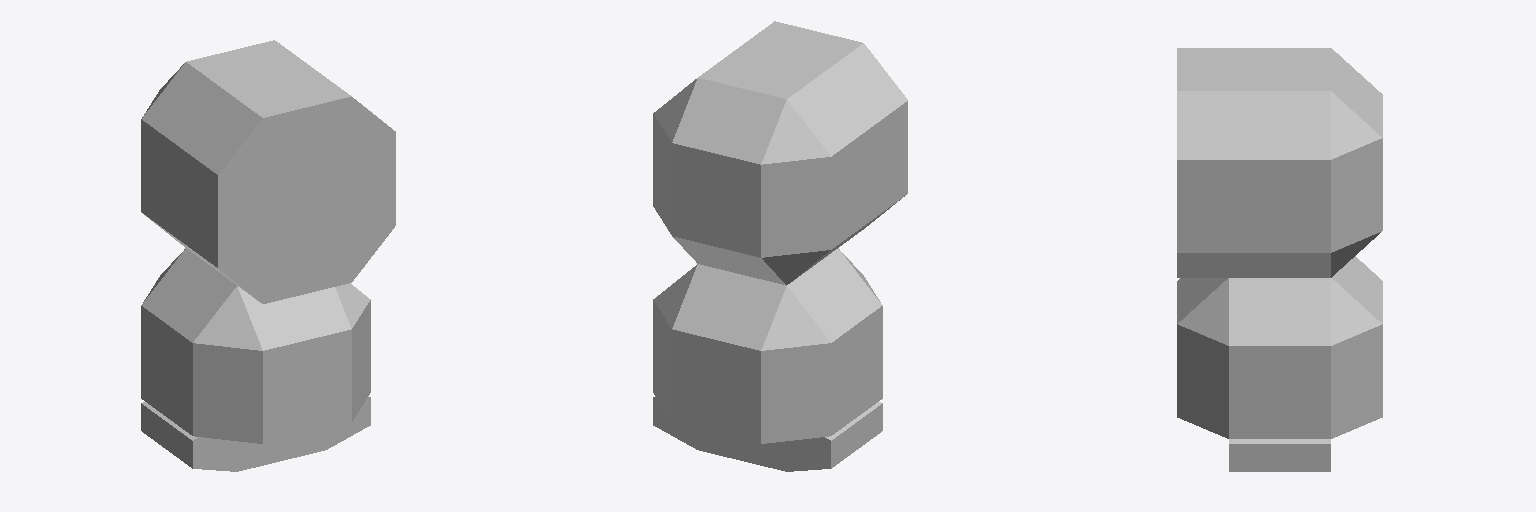
Rendered from Crazer_Unown.obj.
3 renders of one model, left to right at view 1: azimuth 30°, elevation 25°; view 2: azimuth 150°, elevation 25°; view 3: azimuth 270°, elevation 25°, orthographic.
Visible parts, largest first — view 1: Cube, Cube.001, Cube.003; view 2: Cube, Cube.001, Cube.003; view 3: Cube, Cube.001, Cube.003.
Boxes of the visible parts, x1,y1,x2,y2 form: Cube: [141, 40, 395, 303]; Cube.001: [141, 248, 370, 443]; Cube.003: [141, 396, 370, 471]; Cube: [653, 21, 907, 285]; Cube.001: [653, 248, 882, 443]; Cube.003: [653, 396, 882, 471]; Cube: [1177, 48, 1382, 277]; Cube.001: [1177, 256, 1382, 438]; Cube.003: [1229, 439, 1330, 471].
Bounding box in the file's own units: 1 × 2 × 1.